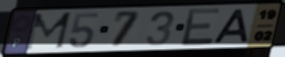3: (145, 10, 176, 47)
5: (67, 11, 100, 49)
7: (111, 9, 144, 49)
A: (211, 8, 250, 45)
E: (179, 6, 222, 48)
M: (23, 11, 74, 52)
